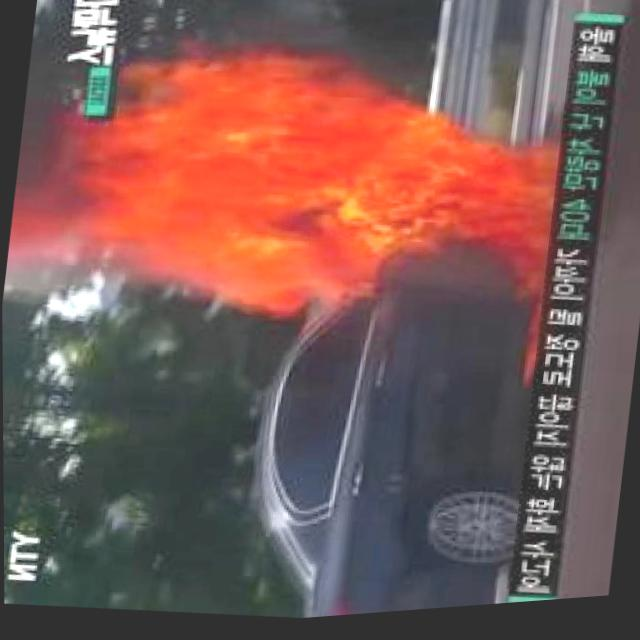helmet: (83, 16, 578, 439), (5, 114, 112, 306)
